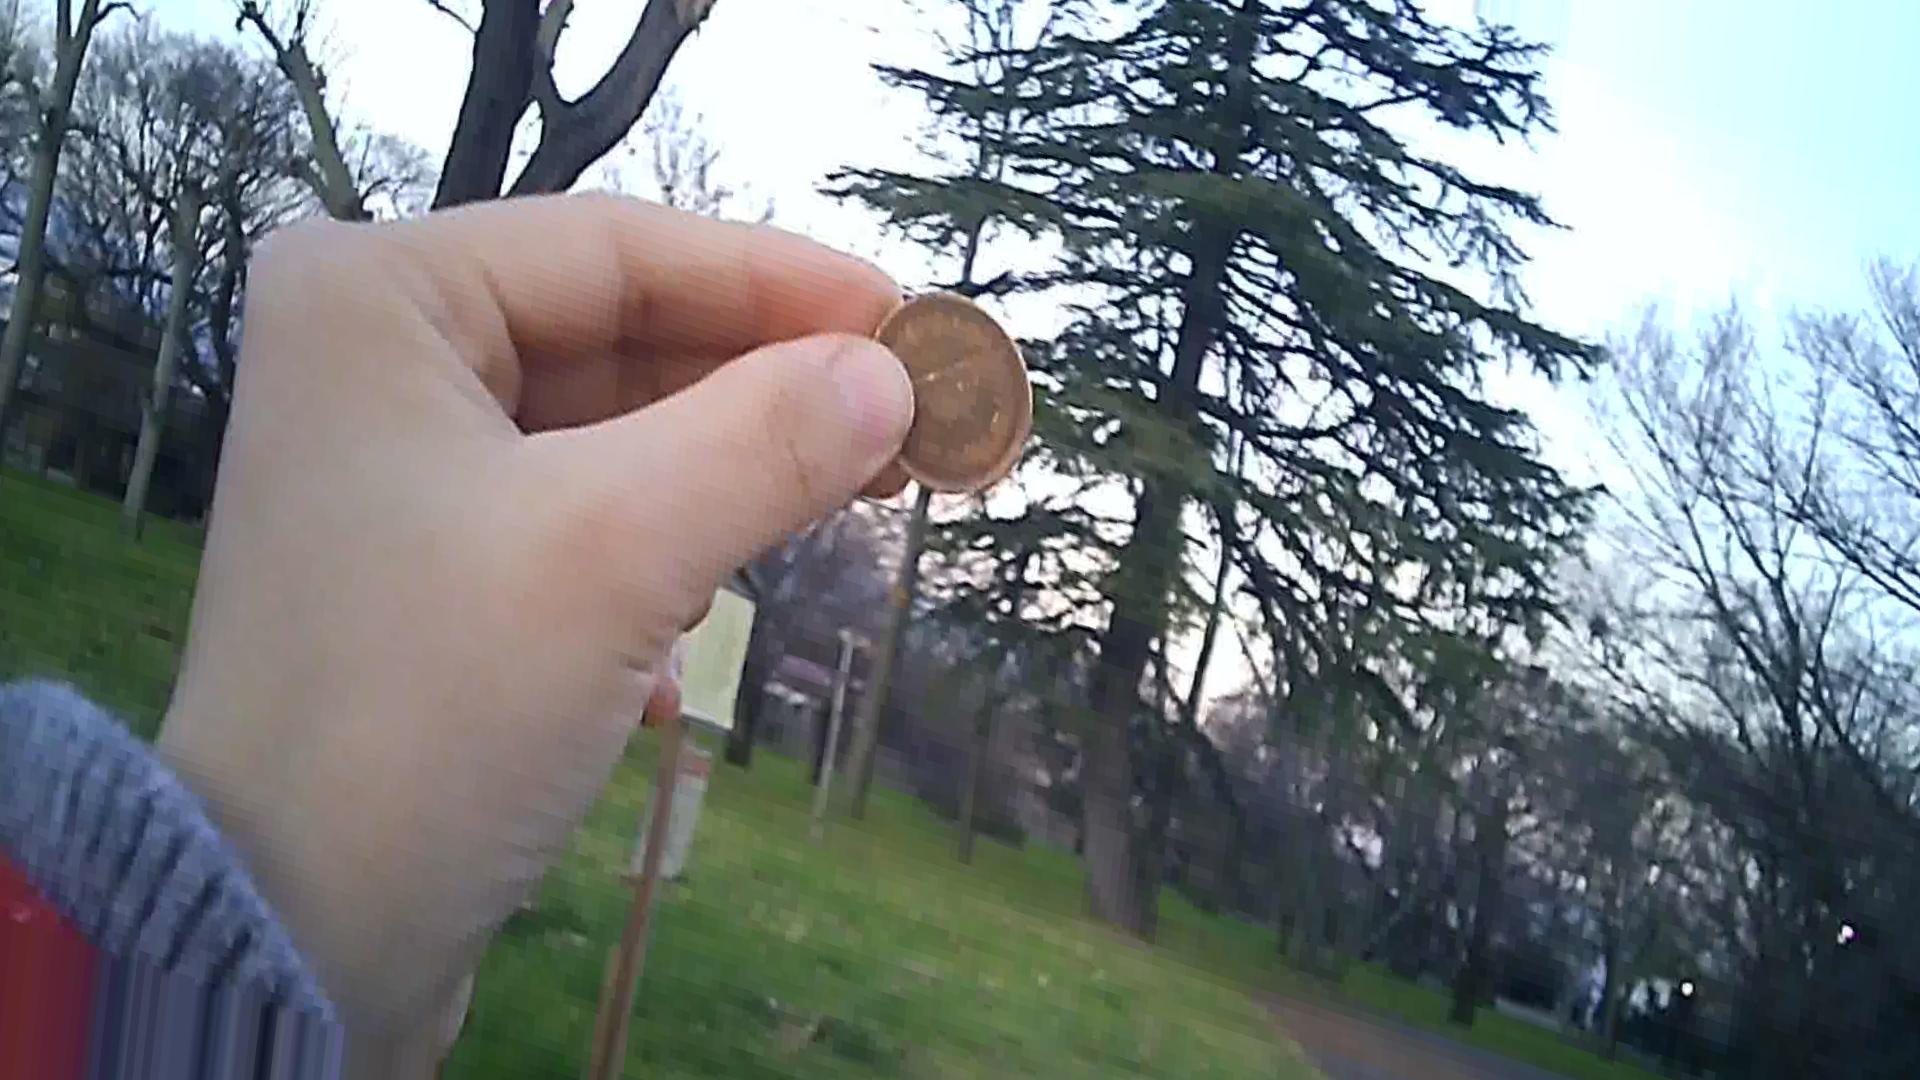10 Yen: (858, 284, 1048, 498)
